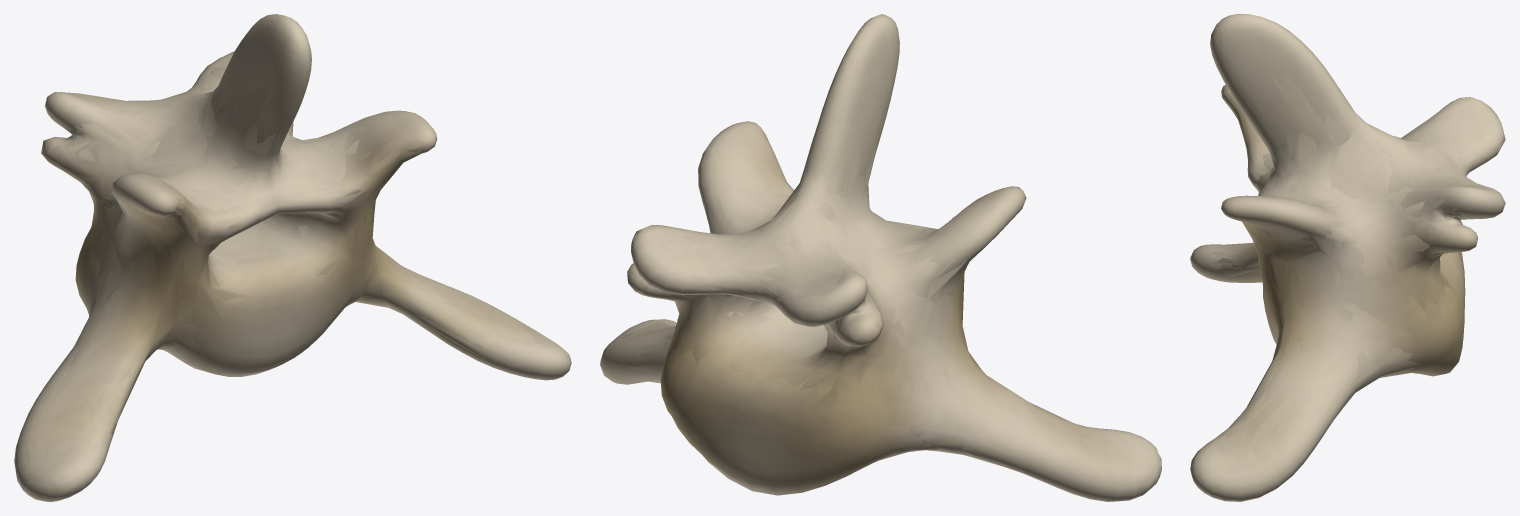
Rendered from vertebrae lumbales 3.fbx.
3 views of the same model, side by side, from view 1: azimuth 30°, elevation 25°; view 2: azimuth 150°, elevation 25°; view 3: azimuth 270°, elevation 25° (orthographic). The views are drawn at different scales.
Visible parts, largest first — view 1: vertebrae lumbales 3 high, vertebrae lumbales 3, vertebrae lumbales 3 low; view 2: vertebrae lumbales 3 high, vertebrae lumbales 3, vertebrae lumbales 3 low; view 3: vertebrae lumbales 3 high, vertebrae lumbales 3, vertebrae lumbales 3 low.
Part boxes in pixels (<box>): vertebrae lumbales 3 high: <box>14,14,570,501</box>; vertebrae lumbales 3: <box>14,14,571,501</box>; vertebrae lumbales 3 low: <box>45,58,540,460</box>; vertebrae lumbales 3 high: <box>600,14,1160,501</box>; vertebrae lumbales 3: <box>600,15,1161,501</box>; vertebrae lumbales 3 low: <box>622,132,1134,472</box>; vertebrae lumbales 3 high: <box>1191,14,1503,501</box>; vertebrae lumbales 3: <box>1190,14,1505,501</box>; vertebrae lumbales 3 low: <box>1216,111,1485,466</box>.
Size of the model in its own units: 10.44 by 7.69 by 5.86.
Materials: 1 (1 with a texture image).
